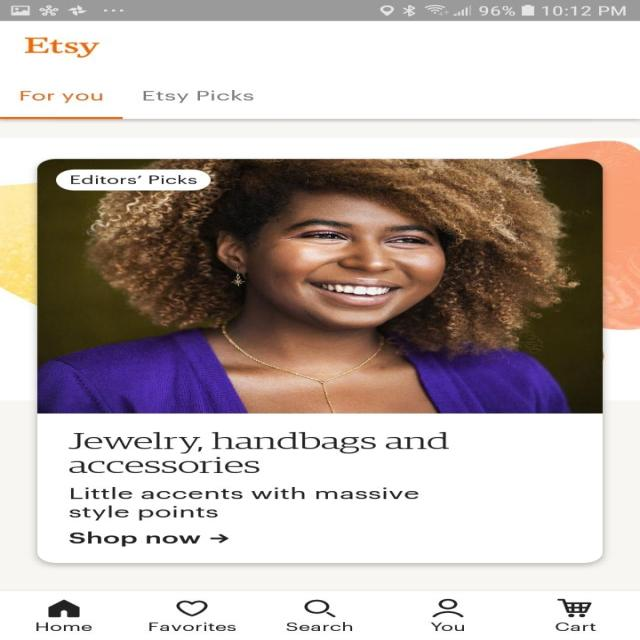Icon: (556, 598, 592, 617), (432, 598, 464, 617), (47, 599, 80, 617), (304, 599, 336, 617), (176, 600, 208, 616), (208, 533, 228, 543)
Image: (36, 158, 602, 413)
Text: (67, 431, 449, 473), (69, 486, 418, 521), (68, 530, 201, 547), (24, 37, 100, 58), (142, 90, 254, 104), (20, 90, 104, 104), (148, 621, 235, 631), (285, 621, 352, 631), (36, 621, 92, 631), (554, 621, 596, 631), (429, 621, 464, 631)
TextButton: (56, 170, 210, 190)
